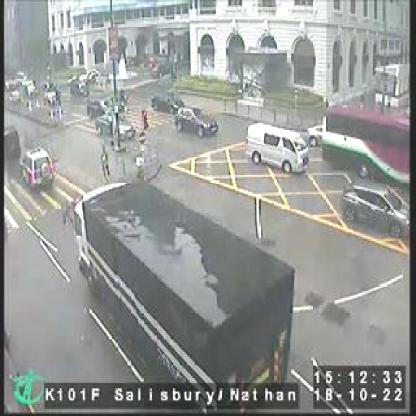Bus: (322, 107, 411, 186)
Car: (340, 179, 409, 243), (245, 124, 309, 174), (21, 147, 56, 191), (176, 105, 218, 137), (94, 113, 136, 144), (152, 89, 186, 115), (86, 96, 115, 123)
Truck: (72, 179, 295, 383)
